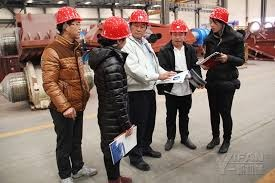red: (53, 6, 84, 41), (98, 16, 128, 51), (127, 8, 149, 38), (167, 16, 189, 46), (208, 7, 229, 32)
